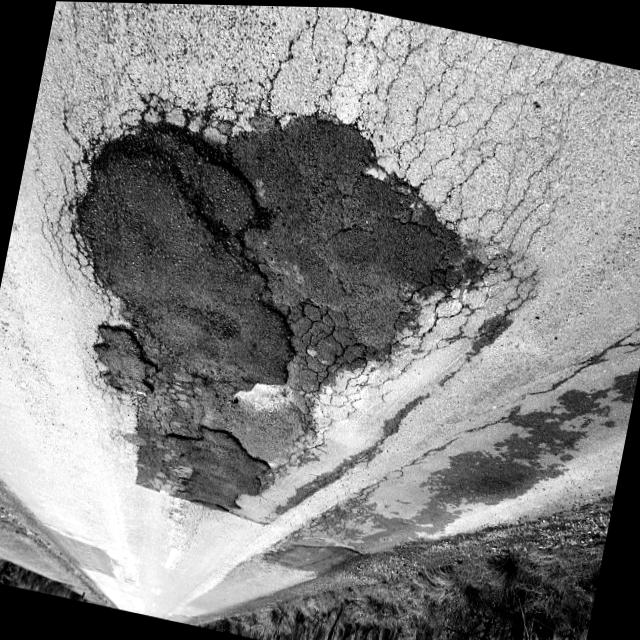pathole: (40, 90, 345, 525)
